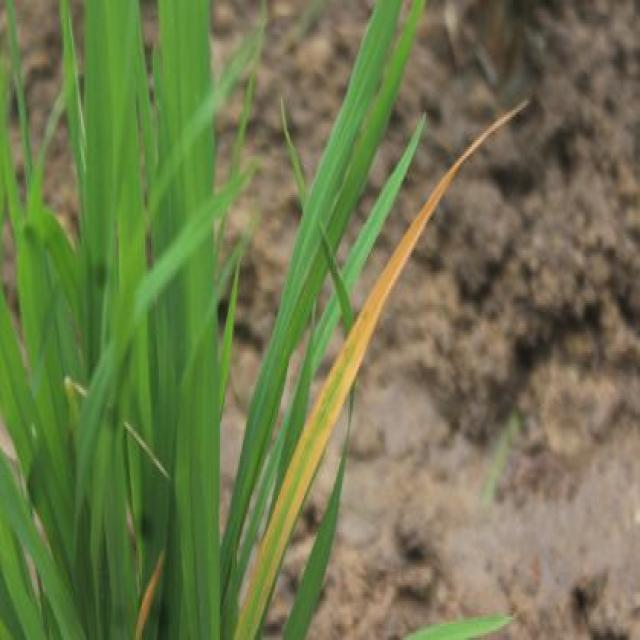Rice Tungro: (228, 147, 468, 637)
